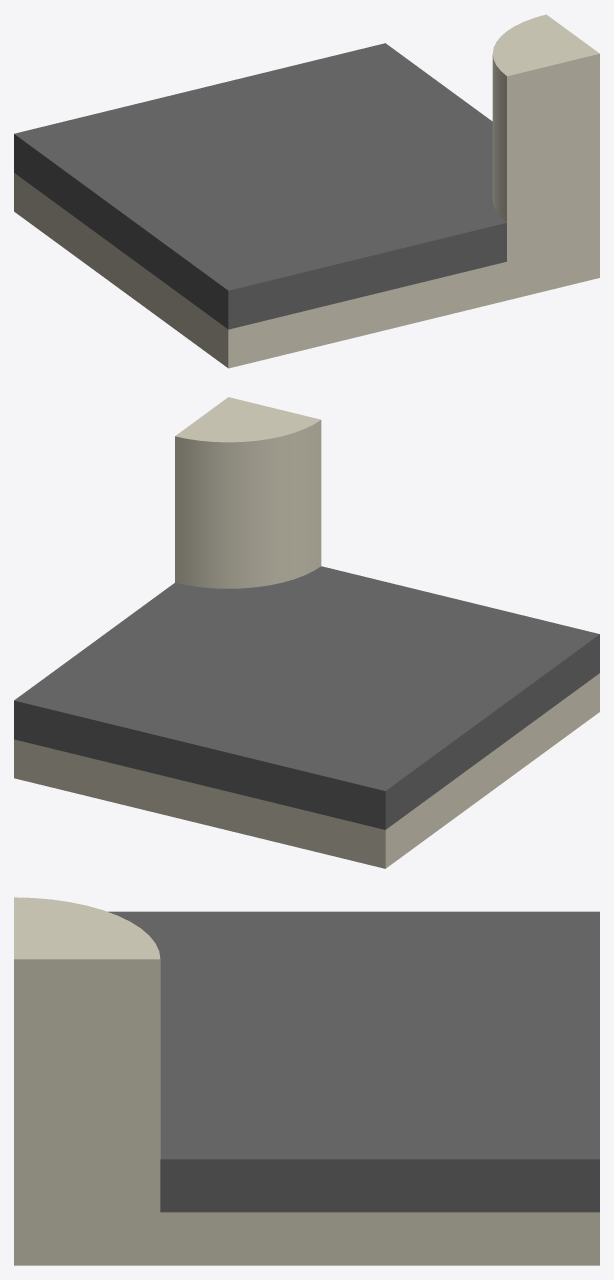
Rendered from tile245.fbx.
The picture shows the model from 3 angles, top to bottom: view 1: azimuth 30°, elevation 25°; view 2: azimuth 150°, elevation 25°; view 3: azimuth 270°, elevation 25°; orthographic projection. The views are drawn at different scales.
Parts seen in each view (by area): view 1: tile245; view 2: tile245; view 3: tile245.
Boxes of the visible parts, x1=… form: tile245: x1=14, y1=14, x2=599, y2=368; tile245: x1=14, y1=397, x2=599, y2=868; tile245: x1=14, y1=897, x2=599, y2=1265.
Bounding box in the file's own units: 10 × 5.77 × 10.
